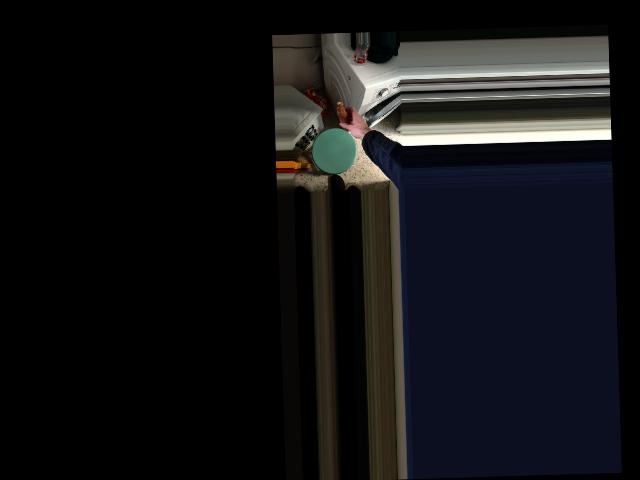sweet_potato: (336, 101, 358, 138)
